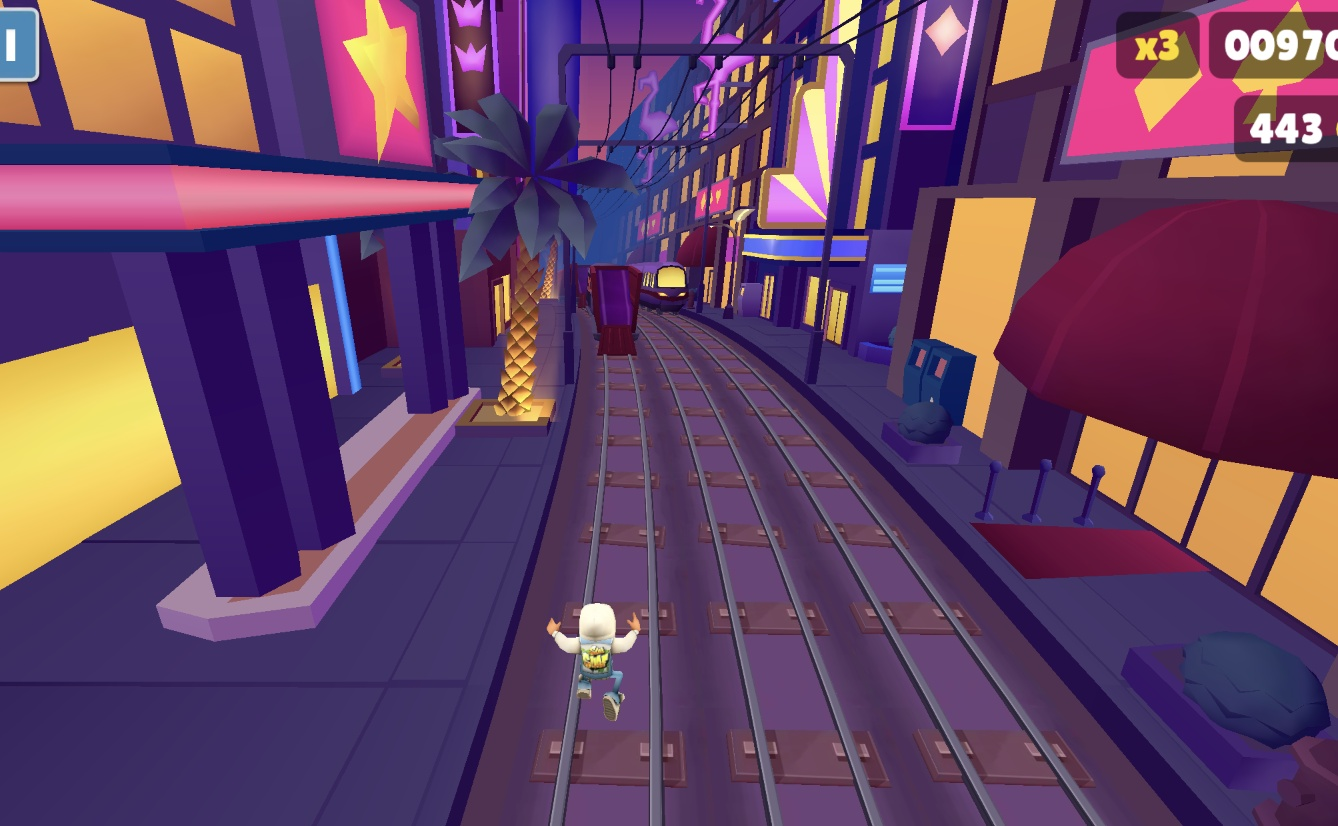train: (589, 267, 639, 354), (647, 270, 684, 304)
